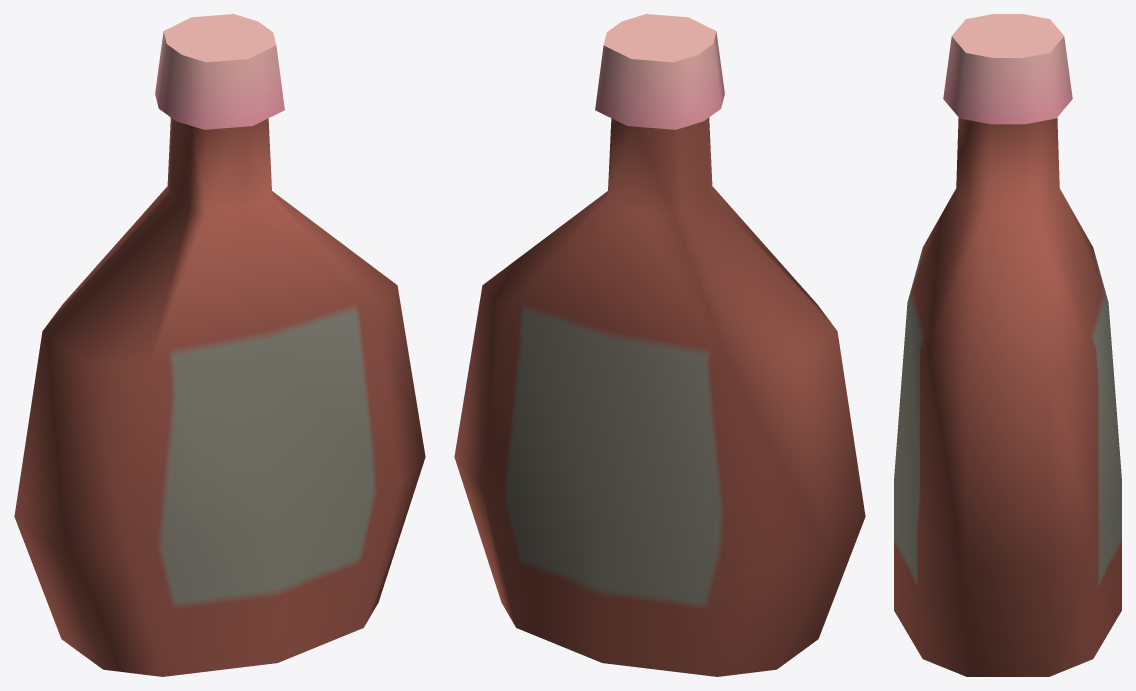
Rendered from SM_Whiskey_Bottle_4_01.fbx.
The picture shows the model from 3 angles, left to right: view 1: azimuth 30°, elevation 25°; view 2: azimuth 150°, elevation 25°; view 3: azimuth 270°, elevation 25°; orthographic projection.
Visible parts, largest first — view 1: SM_Whiskey_Bottle_4_01; view 2: SM_Whiskey_Bottle_4_01; view 3: SM_Whiskey_Bottle_4_01.
Part boxes in pixels (bbox=[...]): SM_Whiskey_Bottle_4_01: bbox=[14, 14, 425, 676]; SM_Whiskey_Bottle_4_01: bbox=[454, 14, 865, 676]; SM_Whiskey_Bottle_4_01: bbox=[894, 14, 1121, 676].
Size of the model in its own units: 17.07 by 25.73 by 9.24.
